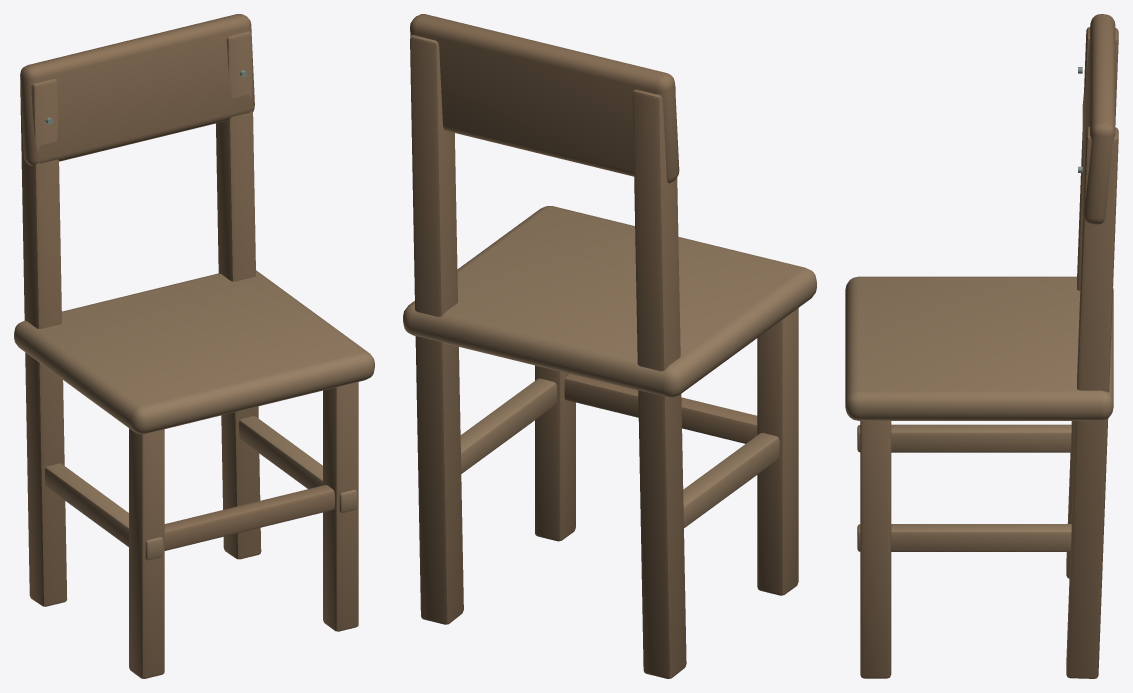
The model's file is CTCC_PROP_ArchiveChair.fbx.
3 renders of one model, left to right at view 1: azimuth 30°, elevation 25°; view 2: azimuth 150°, elevation 25°; view 3: azimuth 270°, elevation 25°, orthographic. The views are drawn at different scales.
Parts seen in each view (by area): view 1: CTCC_PROP_ArchiveChair_LOD0; view 2: CTCC_PROP_ArchiveChair_LOD0; view 3: CTCC_PROP_ArchiveChair_LOD0.
Part boxes in pixels (x1=…): CTCC_PROP_ArchiveChair_LOD0: x1=14, y1=14, x2=374, y2=678; CTCC_PROP_ArchiveChair_LOD0: x1=403, y1=14, x2=816, y2=678; CTCC_PROP_ArchiveChair_LOD0: x1=845, y1=14, x2=1118, y2=678.
Size of what is drawn, in the model's own units: 0.445 by 0.9283 by 0.4137.
